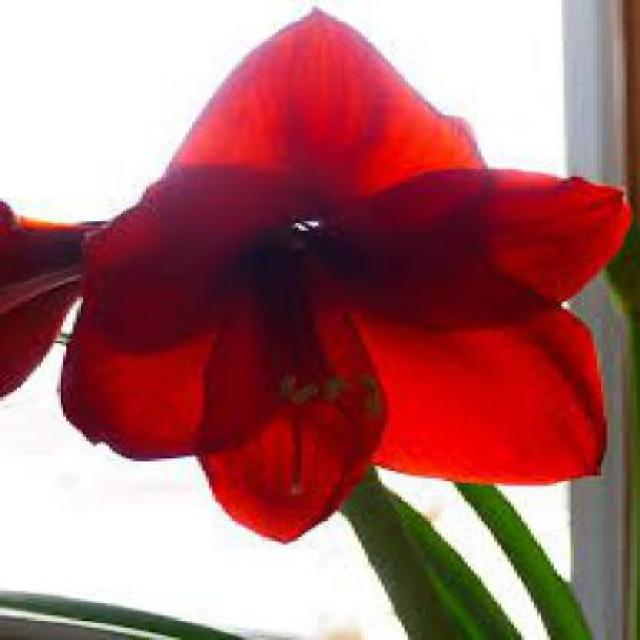Flower: (59, 5, 633, 542)
